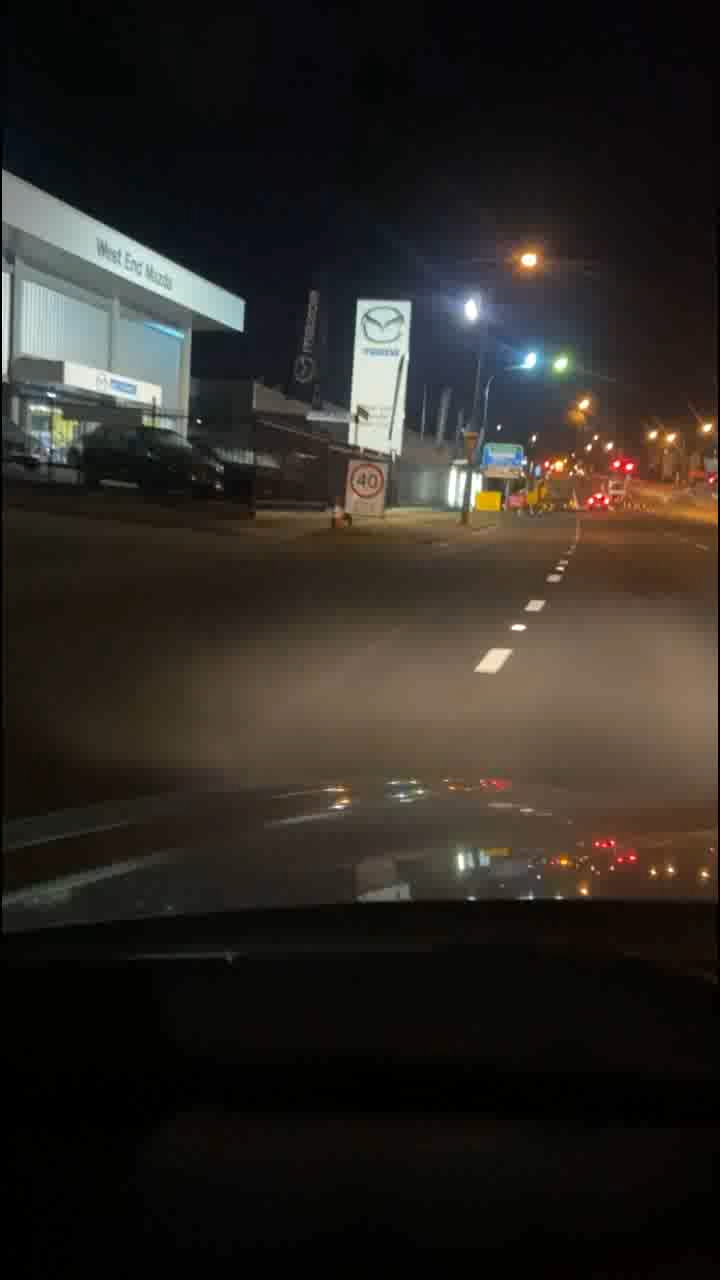car: (68, 425, 233, 508), (583, 490, 608, 511)
road works sign board: (470, 494, 499, 513)
speed board: (347, 455, 381, 522)
